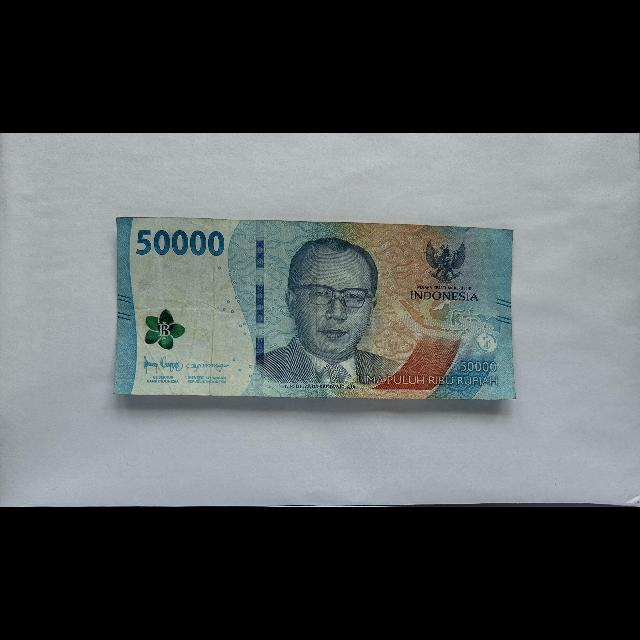Asli-50k: (113, 215, 518, 402)
Tinta-Asli-50k: (144, 309, 186, 351)
